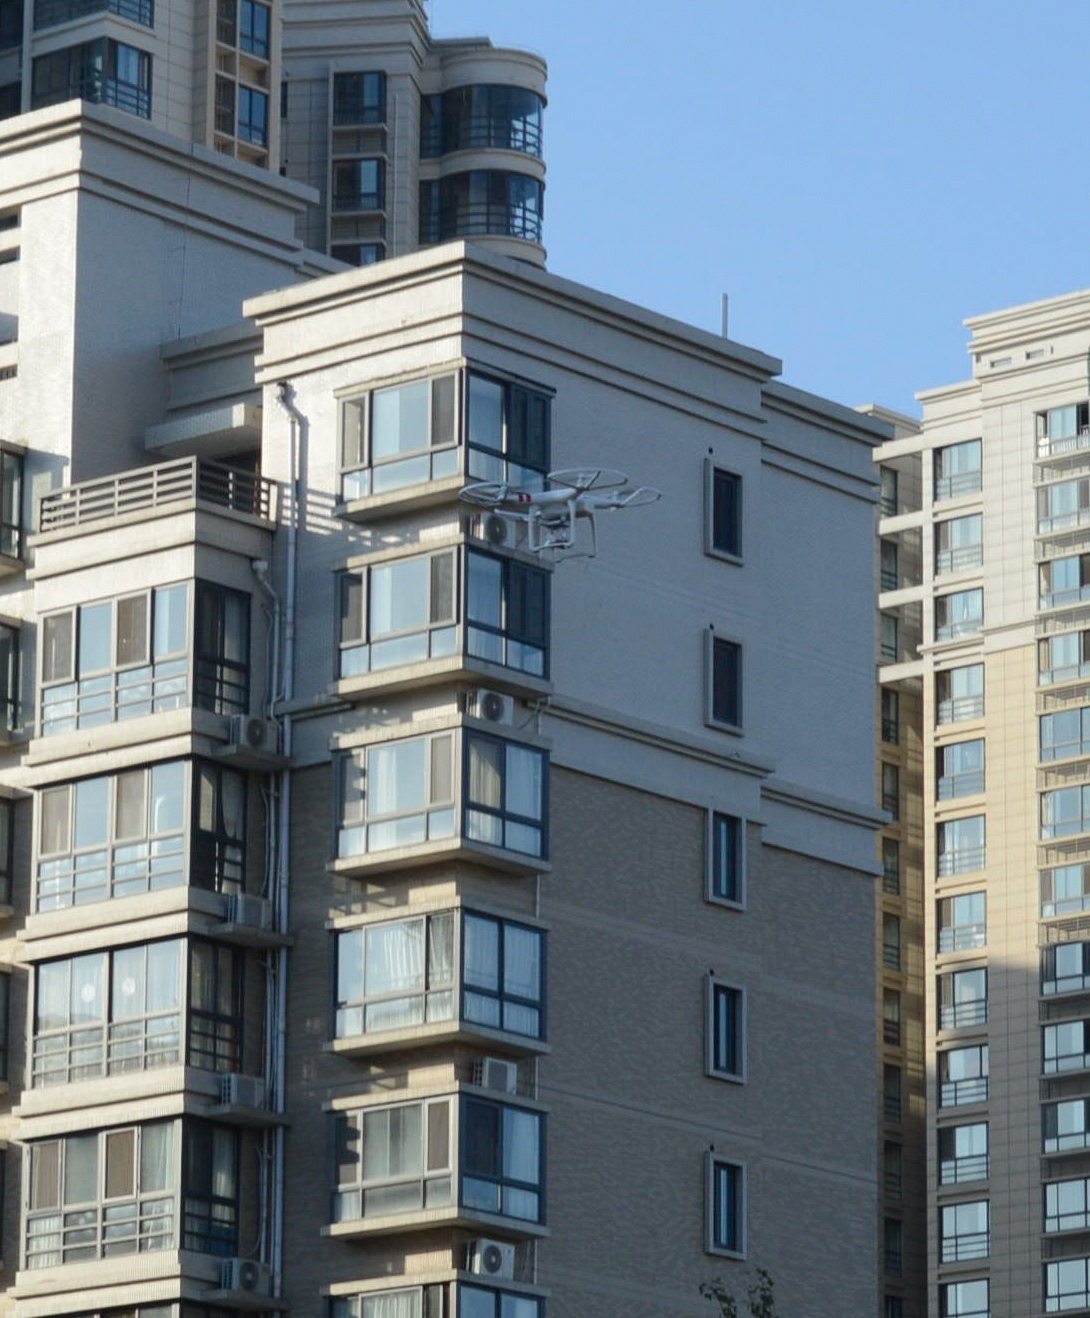DJI: (453, 462, 663, 570)
